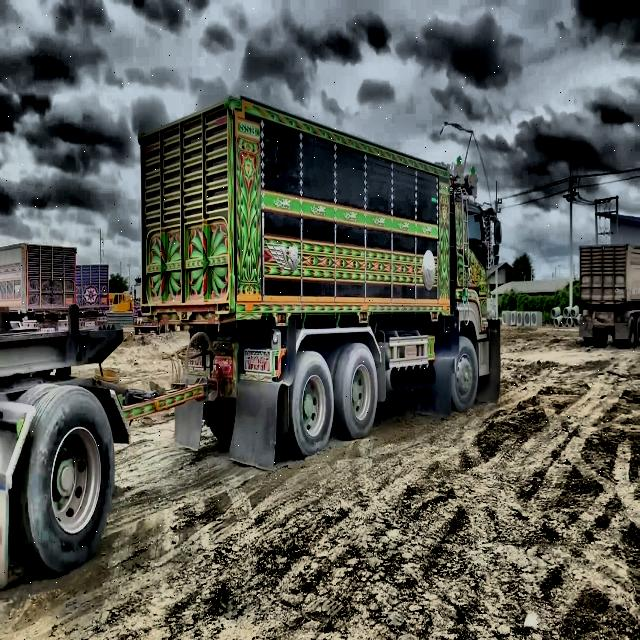trailer: (0, 97, 492, 582)
